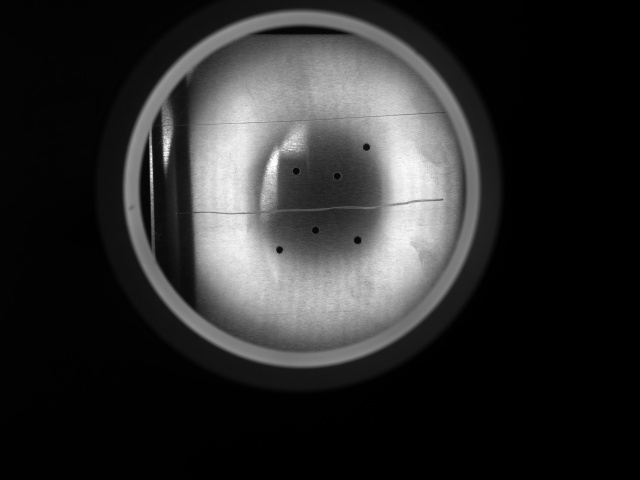ca_shang: (194, 190, 452, 232), (207, 106, 448, 135)
zhen_kong: (324, 163, 352, 190), (268, 237, 295, 264), (286, 160, 310, 186), (346, 228, 369, 252), (357, 136, 379, 161), (304, 220, 327, 243)
